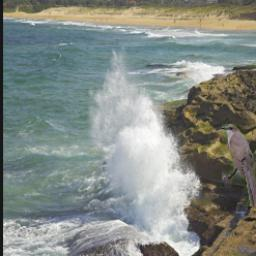Cuckoo: (222, 124, 256, 206)
